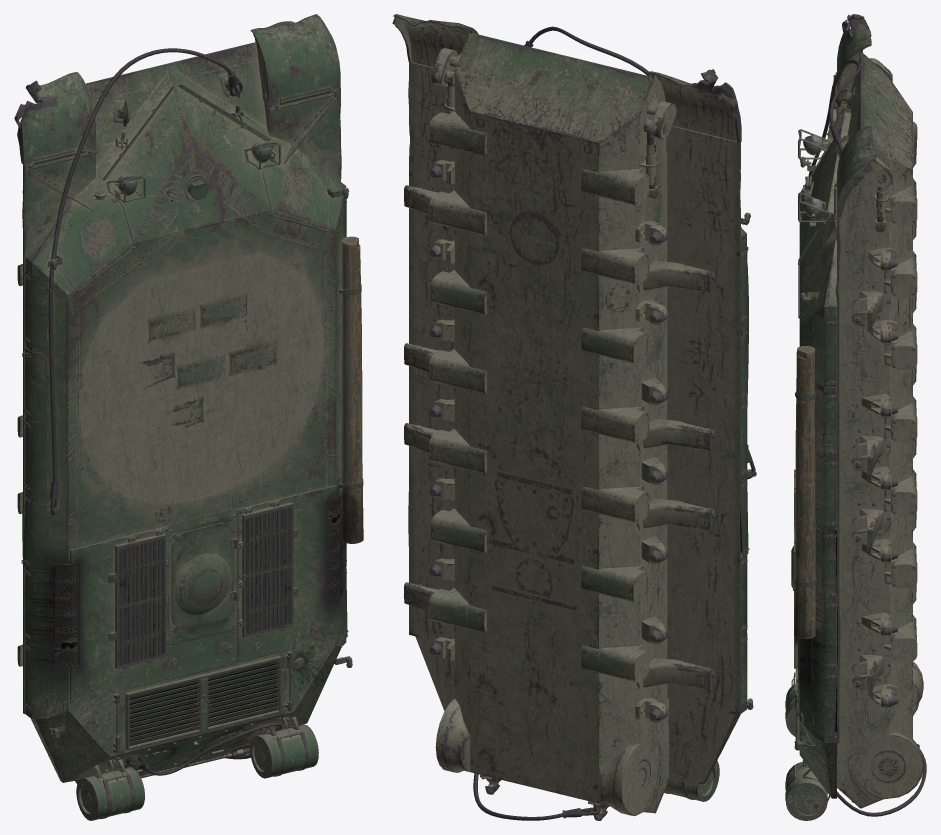
Rendered from Hull.glb.
3 renders of one model, left to right at view 1: azimuth 30°, elevation 25°; view 2: azimuth 150°, elevation 25°; view 3: azimuth 270°, elevation 25°, orthographic. The views are drawn at different scales.
Parts seen in each view (by area): view 1: set_0_group_0; view 2: set_0_group_0; view 3: set_0_group_0.
Part boxes in pixels (x1,y1,x2,y2): set_0_group_0: (14, 14, 363, 820); set_0_group_0: (392, 14, 756, 820); set_0_group_0: (785, 14, 926, 820).
Bounding box in the file's own units: 3.51 × 7.62 × 1.38.
1 material, 1 textured.
